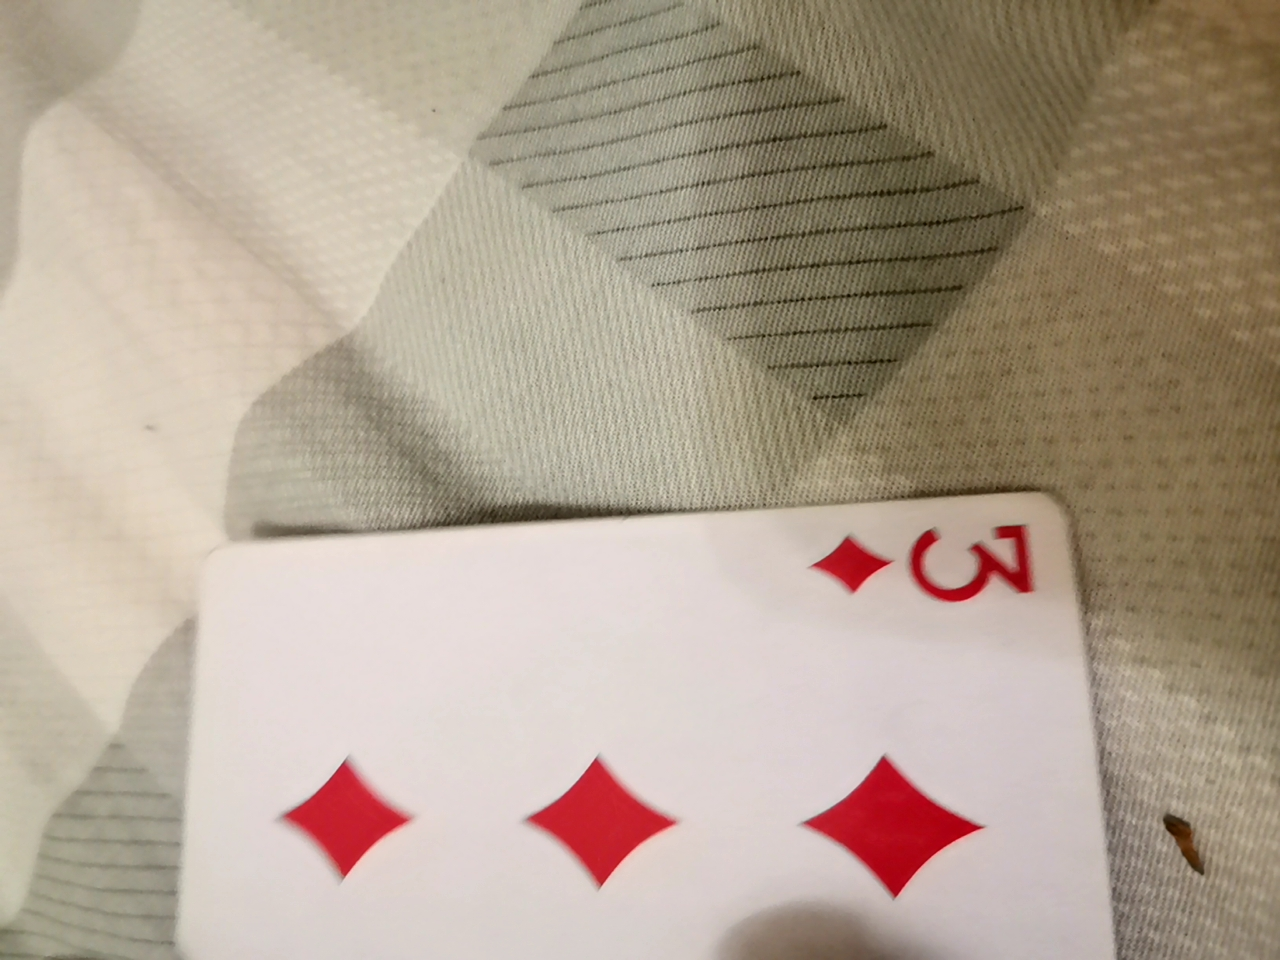fk 3: (172, 502, 1167, 949)
